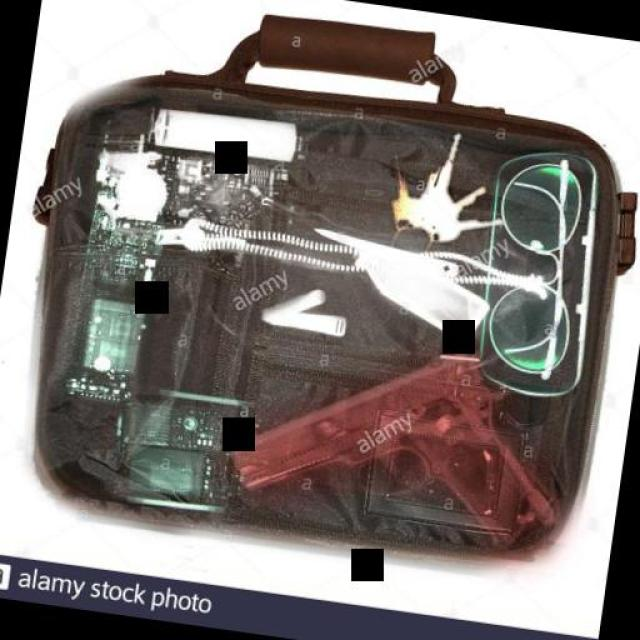gun: (228, 322, 580, 558)
